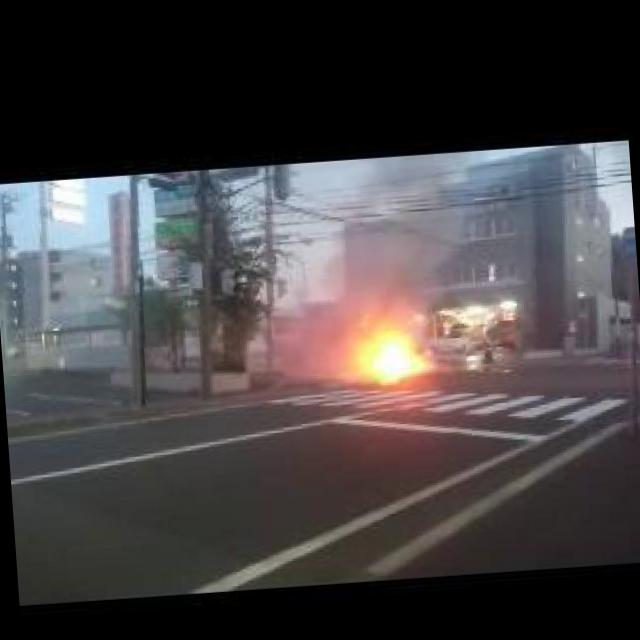fire: (356, 333, 426, 384)
